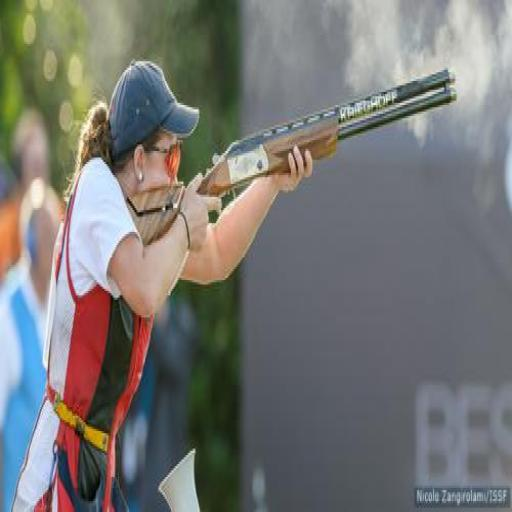shooting: (10, 57, 316, 510)
